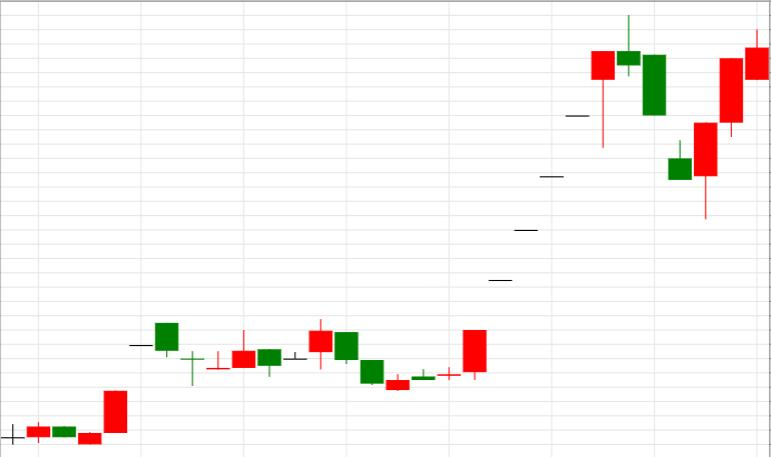hanging_man_fall: (386, 51, 615, 391)
